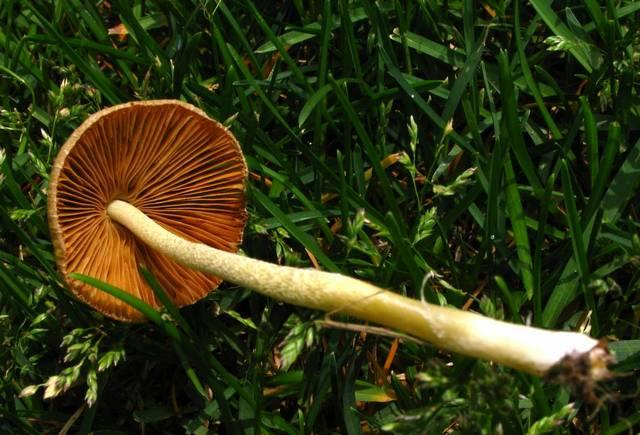Edible Mushroom: (45, 97, 310, 328)
